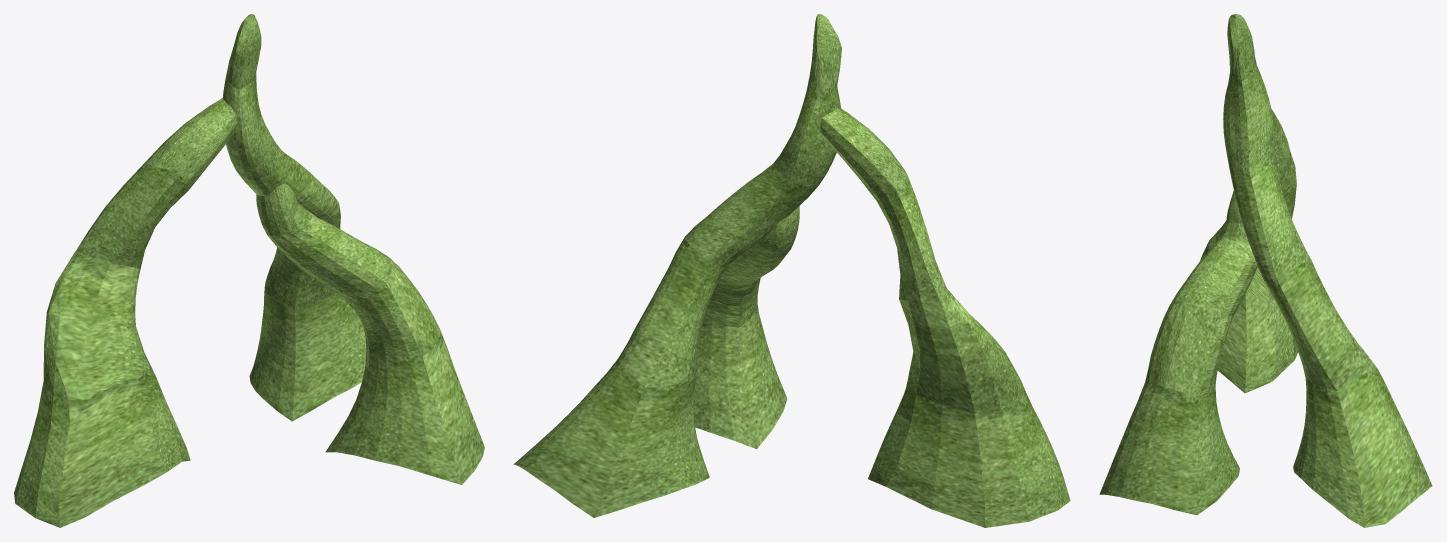
The picture shows the model from 3 angles, left to right: view 1: azimuth 30°, elevation 25°; view 2: azimuth 150°, elevation 25°; view 3: azimuth 270°, elevation 25°; orthographic projection. The views are drawn at different scales.
Visible parts, largest first — view 1: ColobotMesh_1.002_ColobotMesh_.002, ColobotMesh_1.001_ColobotMesh_.001, ColobotMesh_1_ColobotMesh_; view 2: ColobotMesh_1_ColobotMesh_, ColobotMesh_1.002_ColobotMesh_.002, ColobotMesh_1.001_ColobotMesh_.001; view 3: ColobotMesh_1_ColobotMesh_, ColobotMesh_1.001_ColobotMesh_.001, ColobotMesh_1.002_ColobotMesh_.002.
Boxes of the visible parts, x1,y1,x2,y2 form: ColobotMesh_1.002_ColobotMesh_.002: (14, 98, 237, 527); ColobotMesh_1.001_ColobotMesh_.001: (256, 183, 484, 484); ColobotMesh_1_ColobotMesh_: (222, 14, 366, 421); ColobotMesh_1_ColobotMesh_: (513, 14, 841, 517); ColobotMesh_1.002_ColobotMesh_.002: (820, 108, 1070, 527); ColobotMesh_1.001_ColobotMesh_.001: (693, 206, 799, 448); ColobotMesh_1_ColobotMesh_: (1223, 14, 1432, 527); ColobotMesh_1.001_ColobotMesh_.001: (1099, 190, 1257, 515); ColobotMesh_1.002_ColobotMesh_.002: (1200, 109, 1298, 393).
Size of the model in its own units: 14.99 by 14.07 by 10.13.
